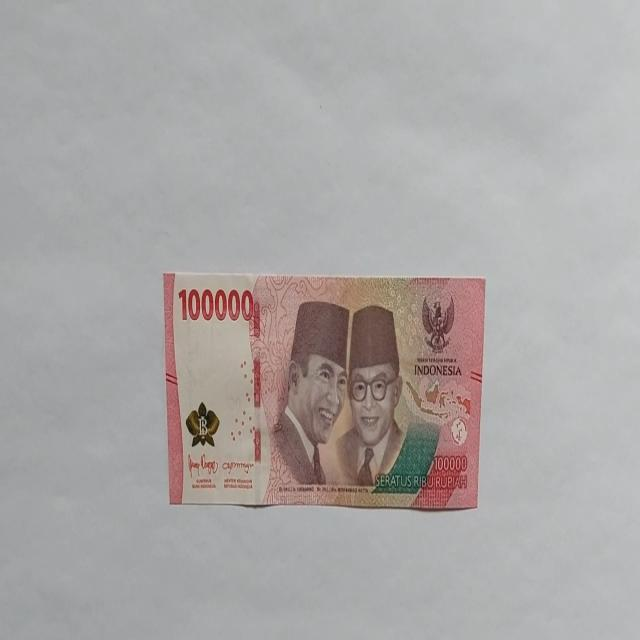seratus ribu rupiah: (163, 271, 486, 510), (262, 298, 350, 502)
